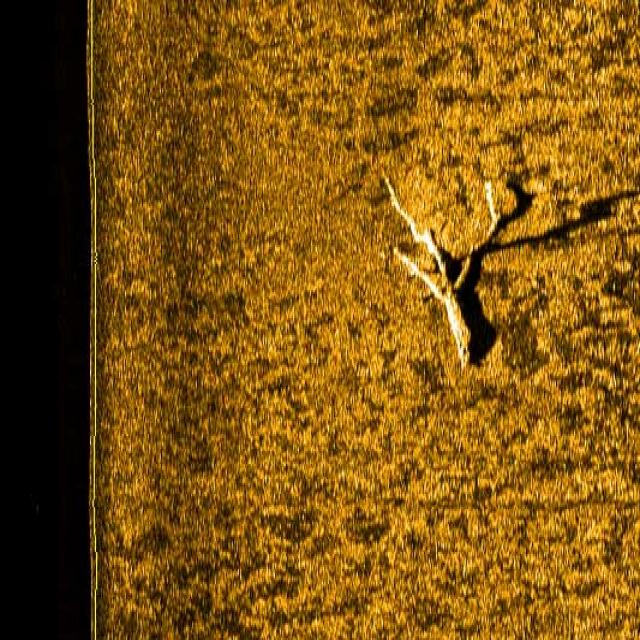other: (375, 138, 509, 374)
